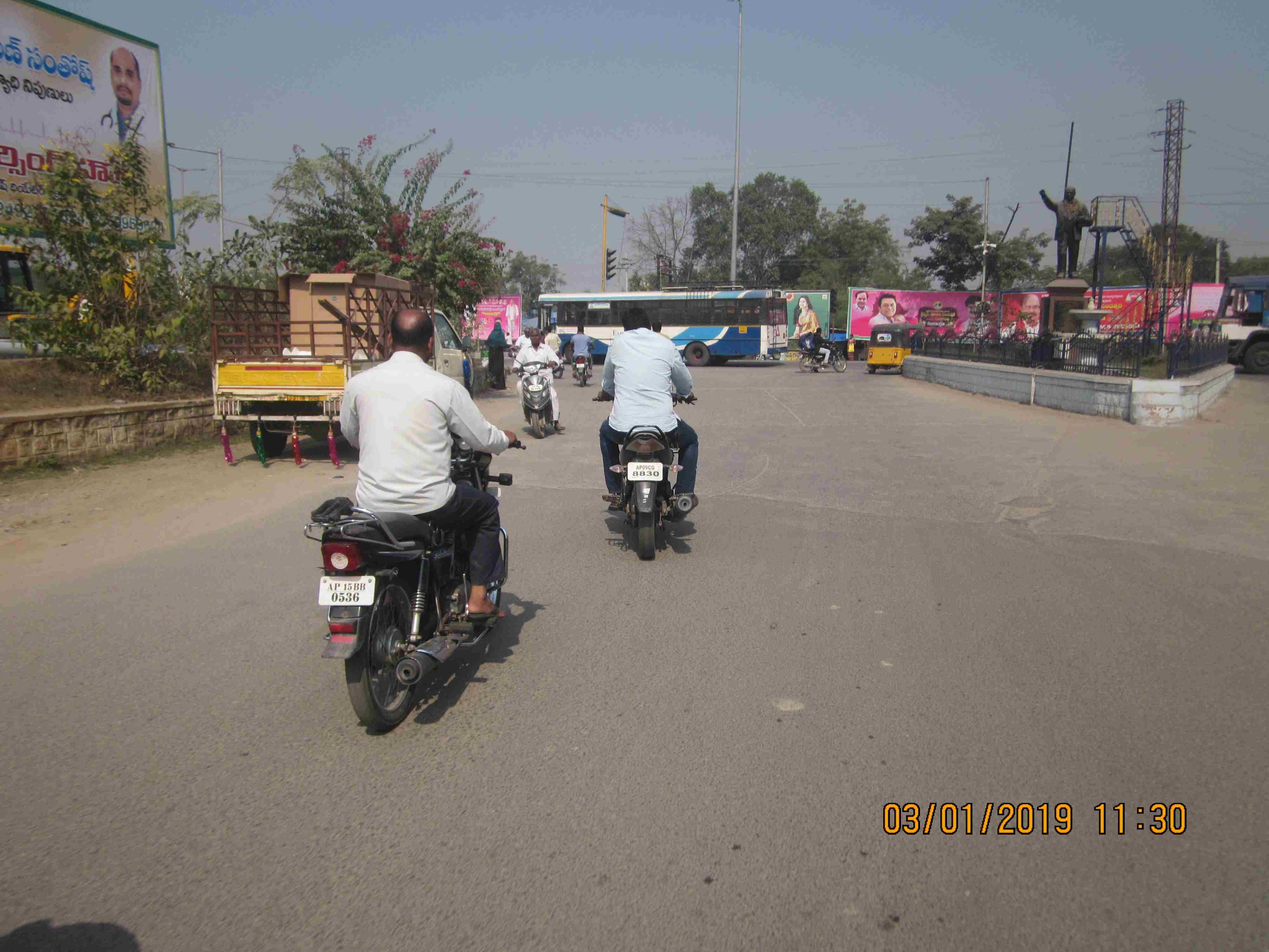plate: (318, 565, 384, 613), (622, 454, 671, 486)
